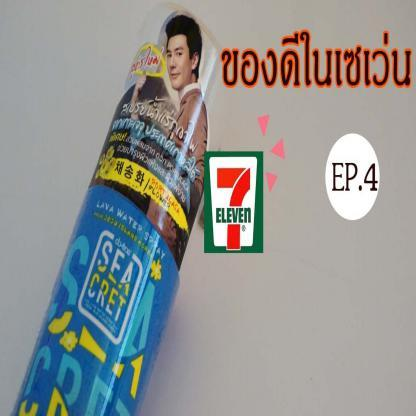plastic_bottle: (1, 5, 219, 416)
